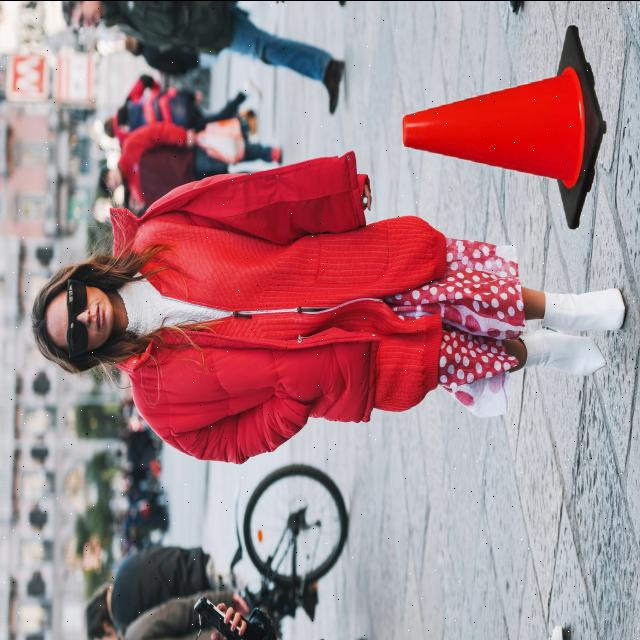traffic cone: (400, 18, 616, 234)
